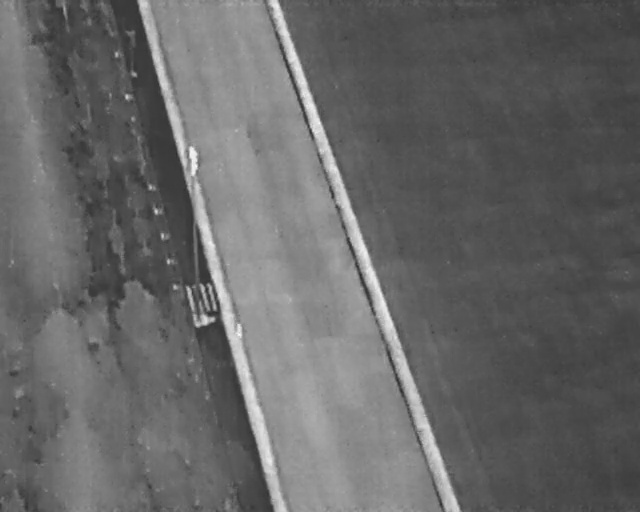Person: (234, 321, 245, 338)
